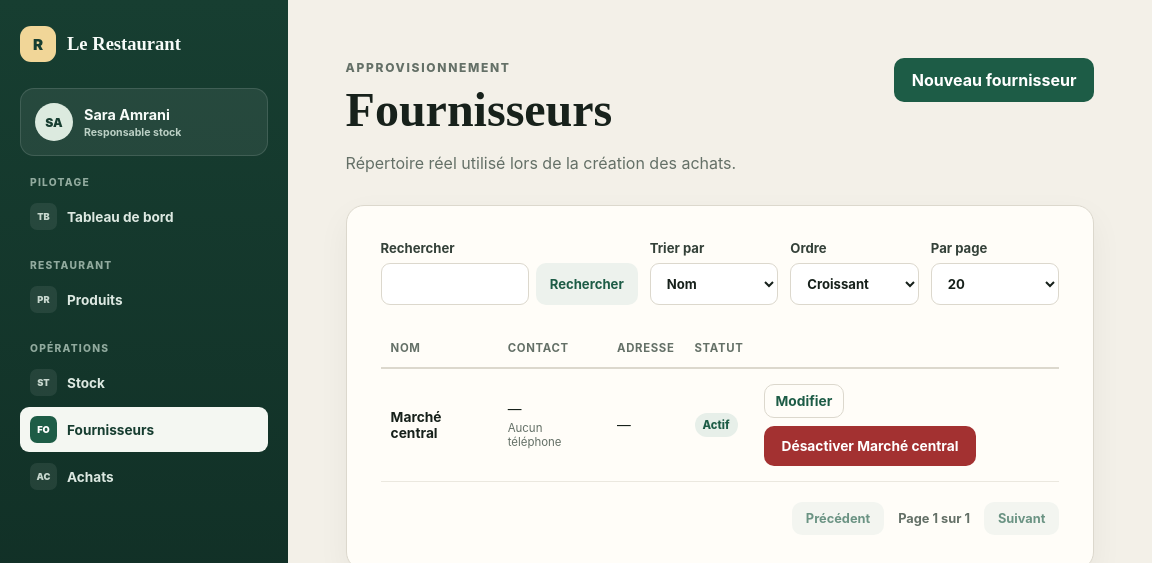
Test: interface de gestion des stocks › ouvre le formulaire de création d’un fournisseur et place le focus sur le nom
Check: the submit button is shown, box [764,426,976,466]
Click the submit button at point(994, 80), box [894,58,1094,102]
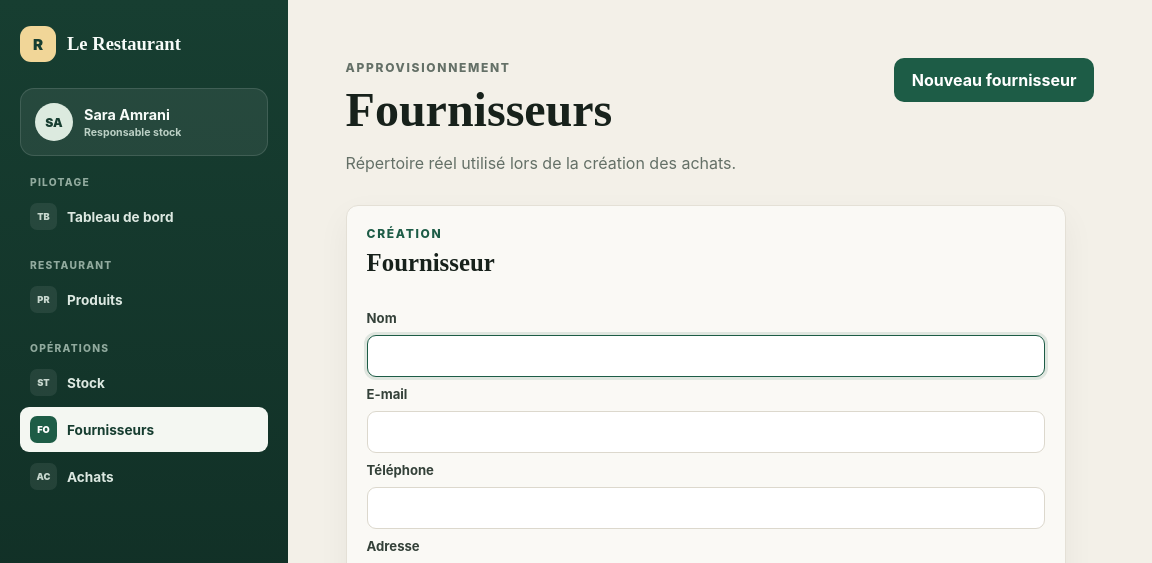
Check: the heading "Fournisseur" is shown, box [367,249,495,277]
